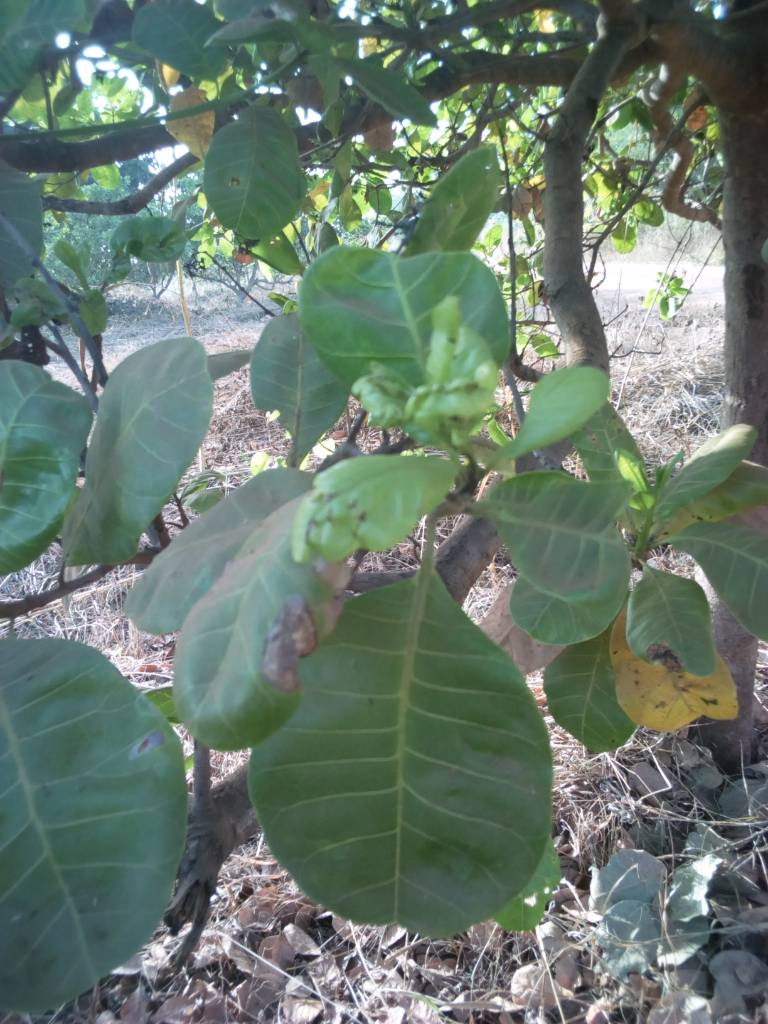Helopeltis anacardii: (174, 452, 385, 747), (349, 288, 504, 435), (625, 569, 718, 677)
